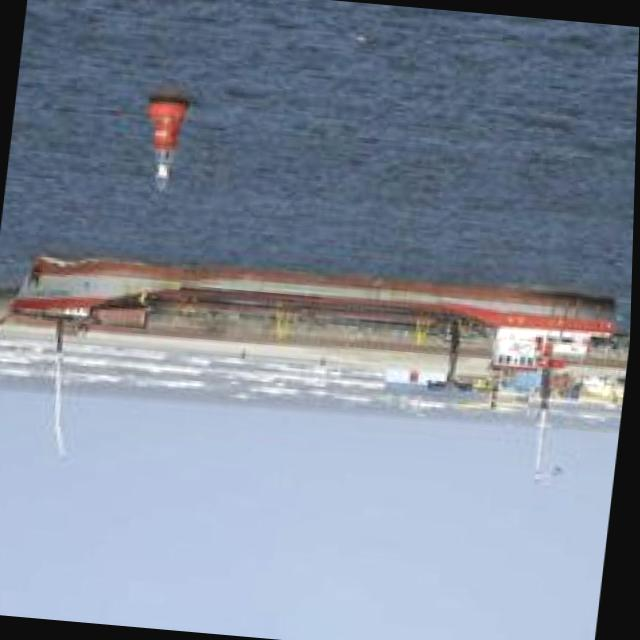ship2: (7, 255, 618, 486)
